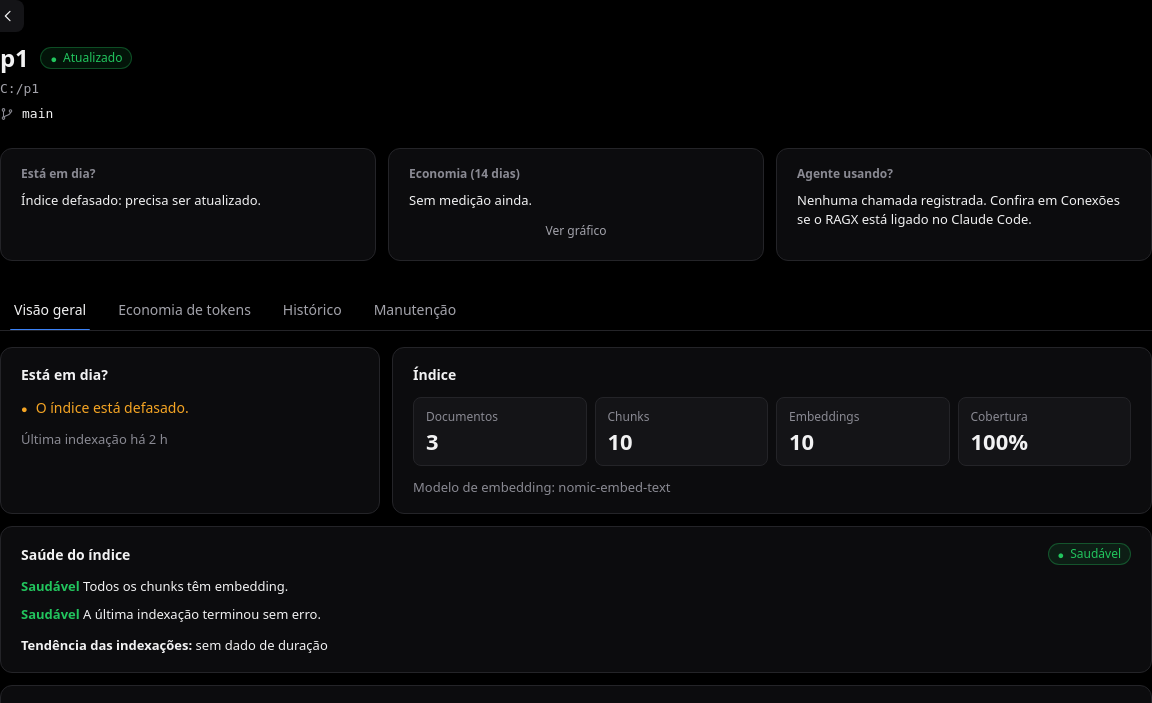
ProjectPage: está em dia? › resposta em formato inesperado não quebra a página
Check: the text "O índice está defasado." is shown, box [36,398,189,417]
Click the tab "Histórico" at (312, 310), box [269,289,356,330]
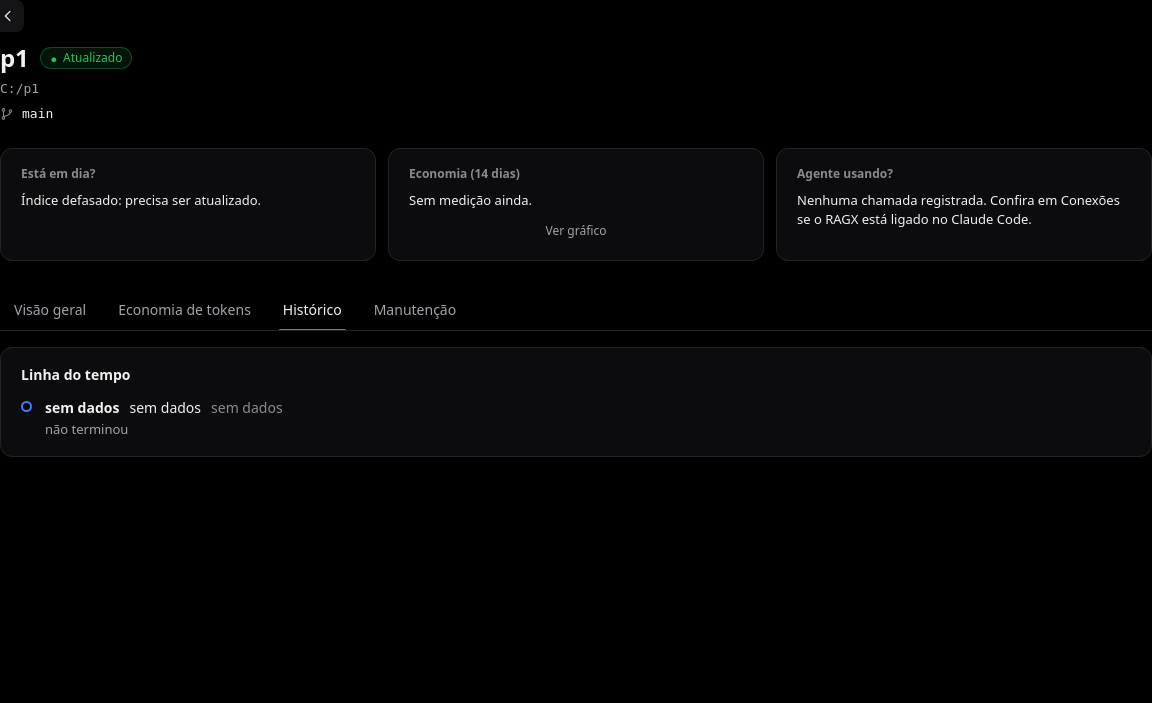
Check: the number of list items is 1, box [21,398,283,438]
